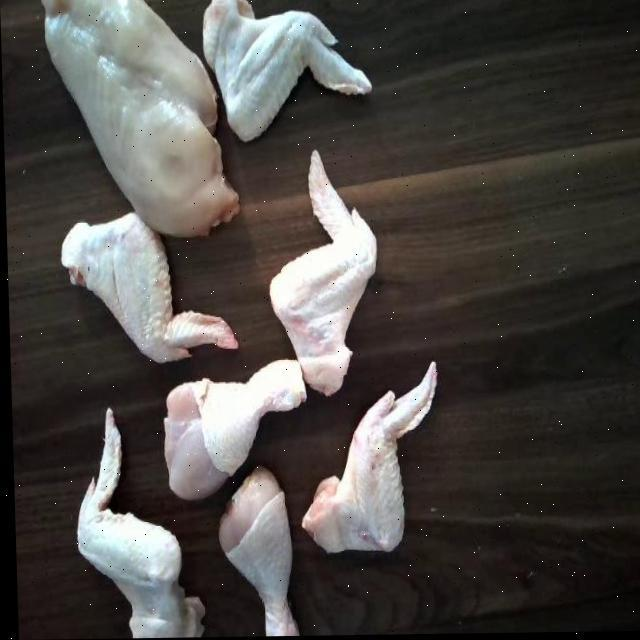breast: (40, 0, 229, 240)
leg: (149, 351, 314, 502), (208, 470, 308, 638)
wing: (286, 337, 436, 562), (70, 402, 204, 639), (51, 208, 240, 368), (264, 146, 380, 399), (191, 0, 366, 130)
